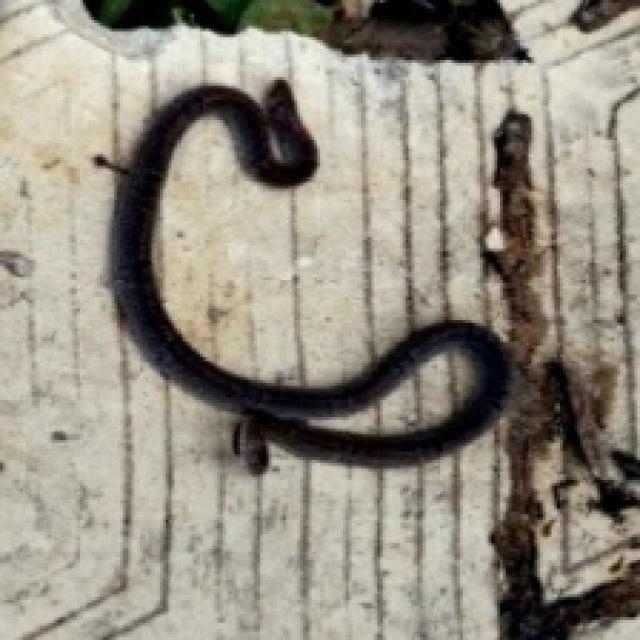northern short-headed snake: (111, 80, 637, 637), (111, 80, 509, 463), (543, 357, 637, 514), (306, 346, 474, 431)
